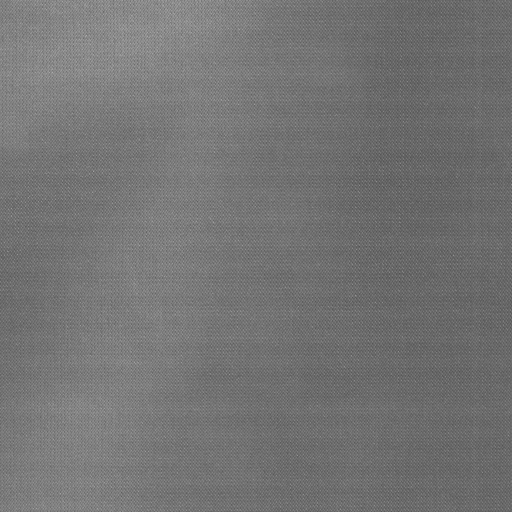defect: (466, 1, 488, 512)
